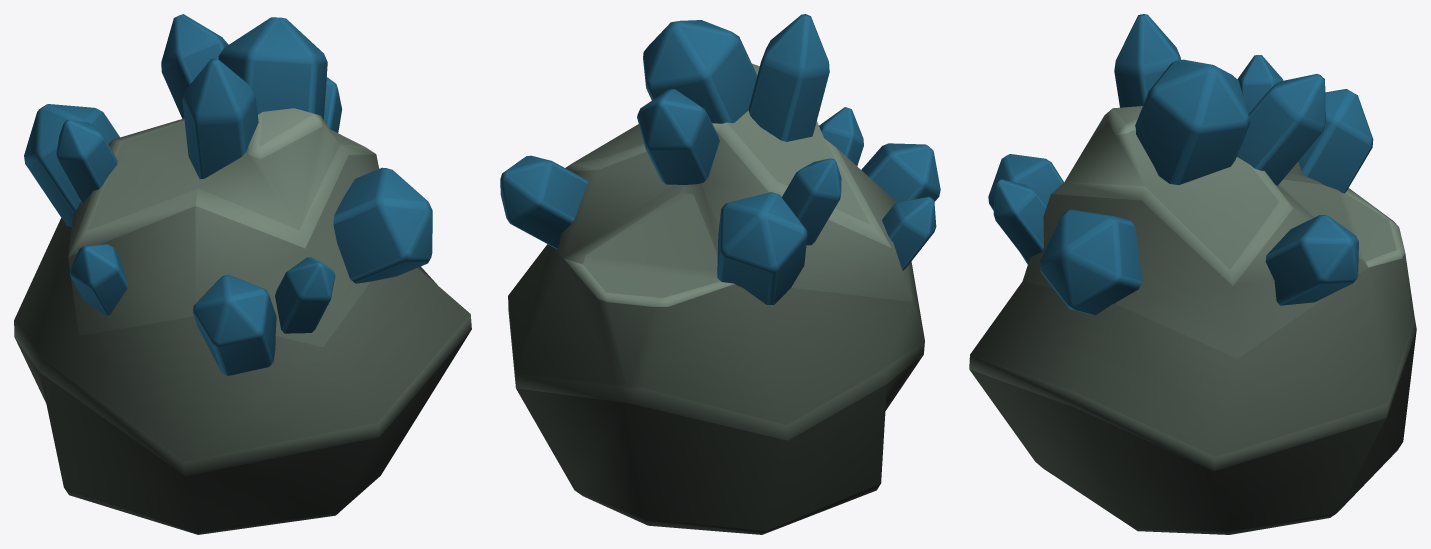
The picture shows the model from 3 angles, left to right: view 1: azimuth 30°, elevation 25°; view 2: azimuth 150°, elevation 25°; view 3: azimuth 270°, elevation 25°; orthographic projection. The views are drawn at different scales.
Visible parts, largest first — view 1: ore_christal_saphire_L_cube_mat_0.002; view 2: ore_christal_saphire_L_cube_mat_0.002; view 3: ore_christal_saphire_L_cube_mat_0.002.
Boxes of the visible parts, x1,y1,x2,y2 form: ore_christal_saphire_L_cube_mat_0.002: (14, 14, 471, 534); ore_christal_saphire_L_cube_mat_0.002: (500, 14, 940, 534); ore_christal_saphire_L_cube_mat_0.002: (969, 14, 1416, 534).
Size of the model in its own units: 198 by 234 by 196.
1 material, 1 textured.
